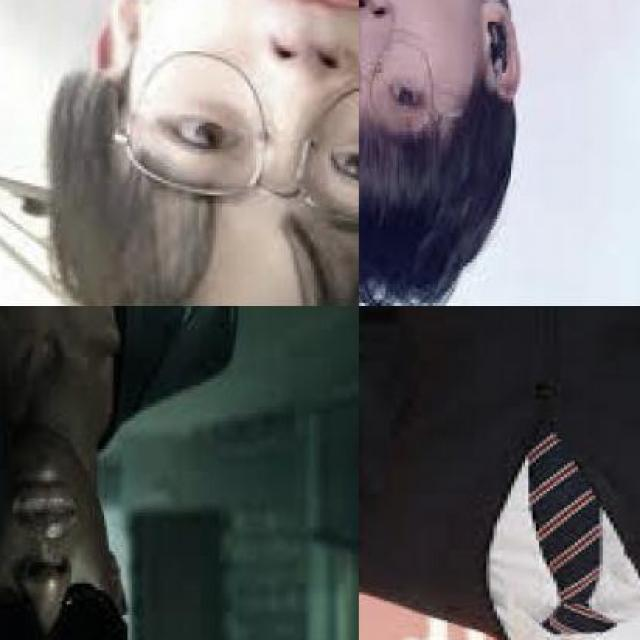Glasses: (107, 41, 357, 236), (359, 13, 450, 135), (0, 568, 135, 640)
